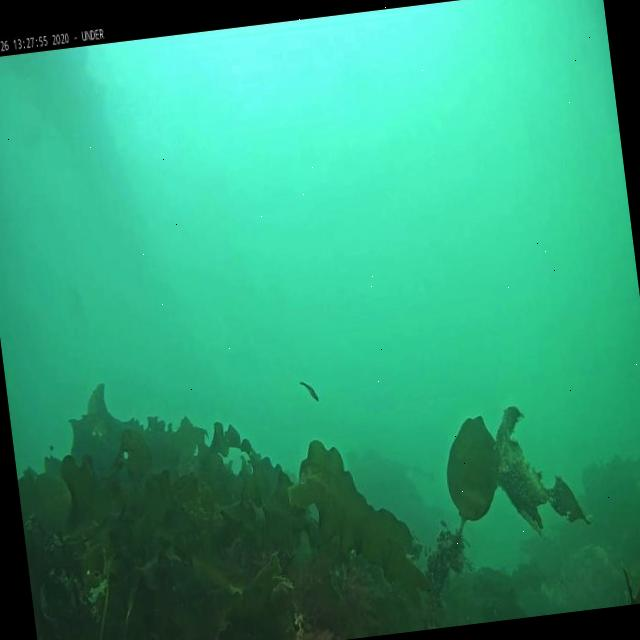fish: (300, 378, 320, 402)
